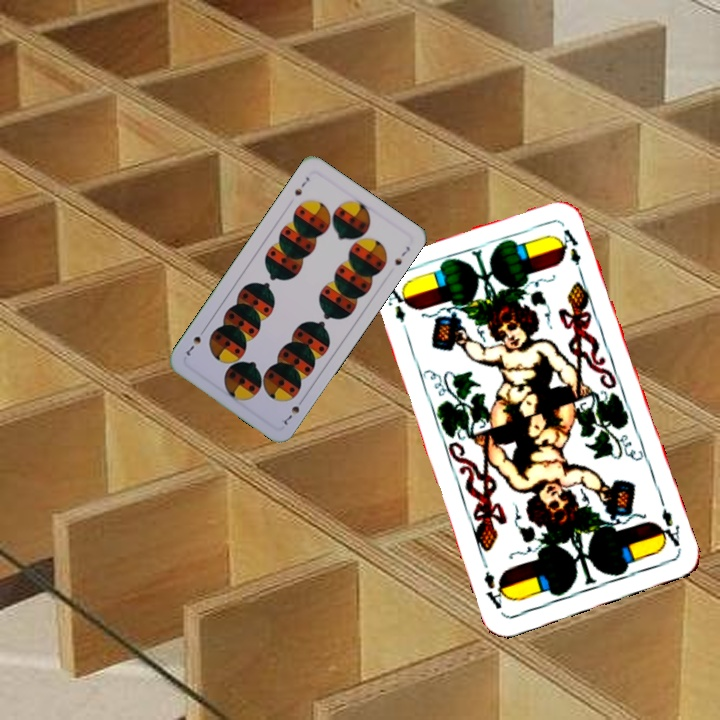EA: (383, 281, 412, 339), (652, 504, 683, 552)
S7: (278, 394, 307, 427), (290, 173, 312, 198)
